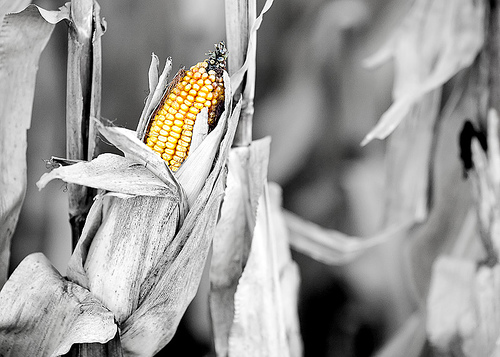corn: (93, 41, 229, 308)
